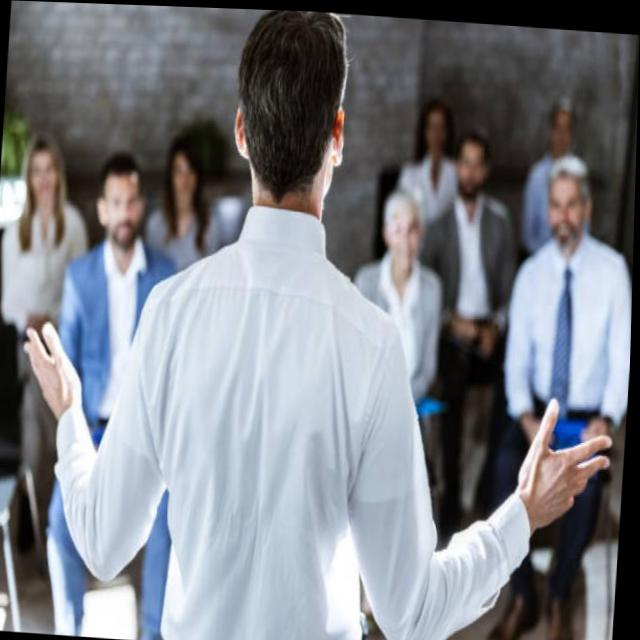no helmet: (205, 6, 379, 260)
